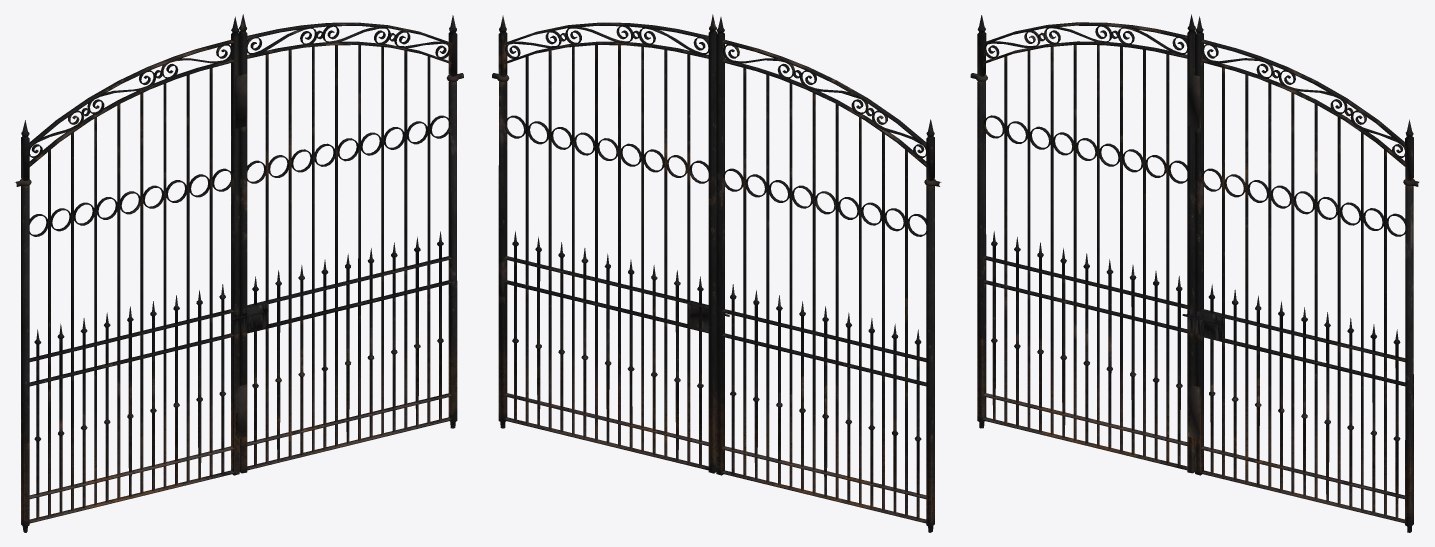
The model's file is large_iron_gate.glb.
The picture shows the model from 3 angles, left to right: view 1: azimuth 30°, elevation 25°; view 2: azimuth 150°, elevation 25°; view 3: azimuth 330°, elevation 25°; orthographic projection.
Parts seen in each view (by area): view 1: large_iron_gate_right_door; view 2: large_iron_gate_right_door; view 3: large_iron_gate_right_door.
Part boxes in pixels (left/top/right/bottom): large_iron_gate_right_door: left=15, top=14, right=463, bottom=532; large_iron_gate_right_door: left=492, top=14, right=941, bottom=532; large_iron_gate_right_door: left=970, top=14, right=1419, bottom=532.
Size of the model in its own units: 2.95 by 2.93 by 0.0962.
Materials: 1 (1 with a texture image).
